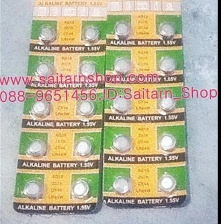battery: (110, 132, 134, 155), (110, 173, 134, 195), (68, 178, 91, 200), (30, 59, 53, 81), (156, 132, 177, 155), (156, 173, 178, 194), (23, 177, 44, 199), (36, 25, 58, 46), (111, 20, 134, 40), (156, 19, 177, 40), (112, 55, 133, 76), (158, 55, 179, 75), (25, 138, 47, 157), (75, 100, 95, 120), (111, 94, 130, 114), (77, 59, 96, 79), (156, 93, 175, 112), (79, 25, 97, 45), (74, 140, 90, 156), (32, 102, 48, 117)
book: (11, 0, 105, 216), (101, 0, 193, 210)
